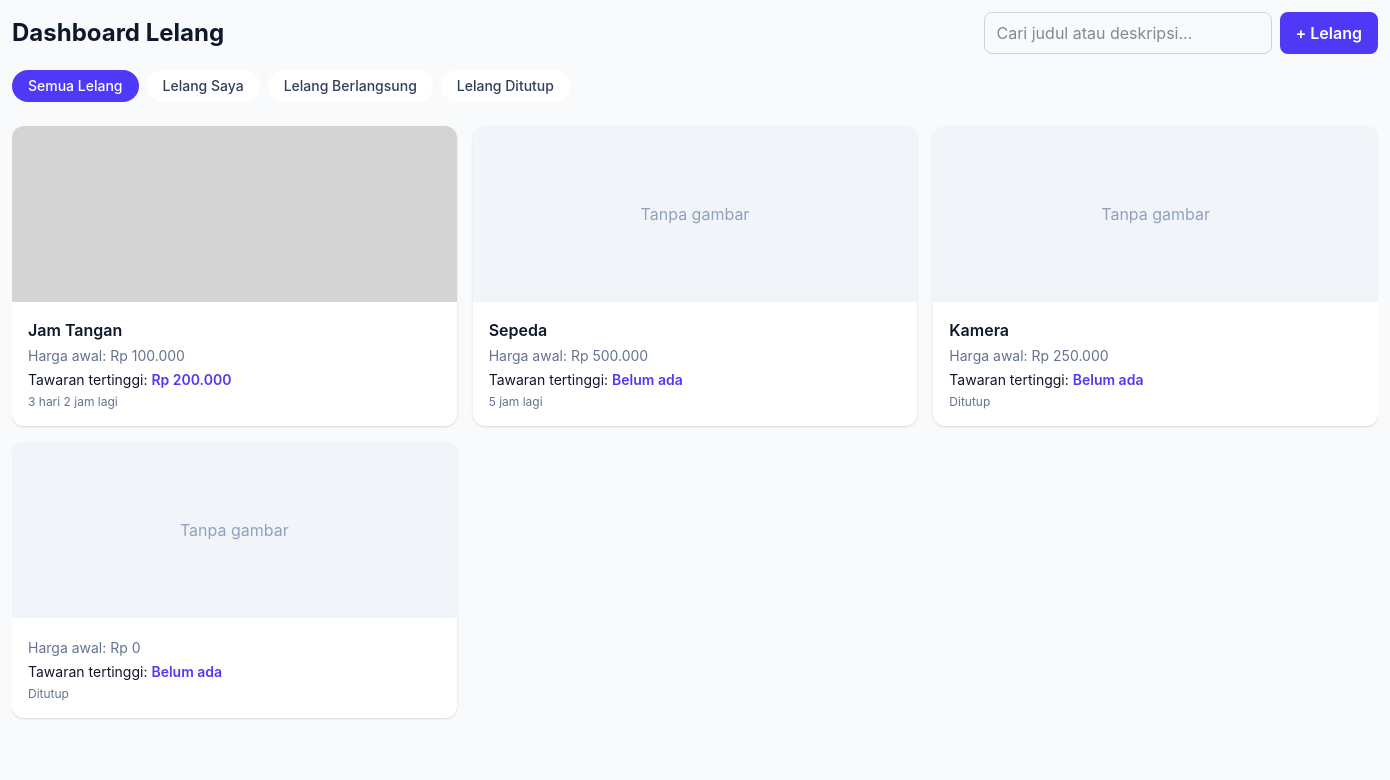
it: pencarian › menampilkan pesan jika tidak ada yang cocok
Type "zzz" into the search field with placeholder "Cari judul atau deskripsi..." at (1128, 33), box top-left (984, 12), bottom-right (1272, 54)
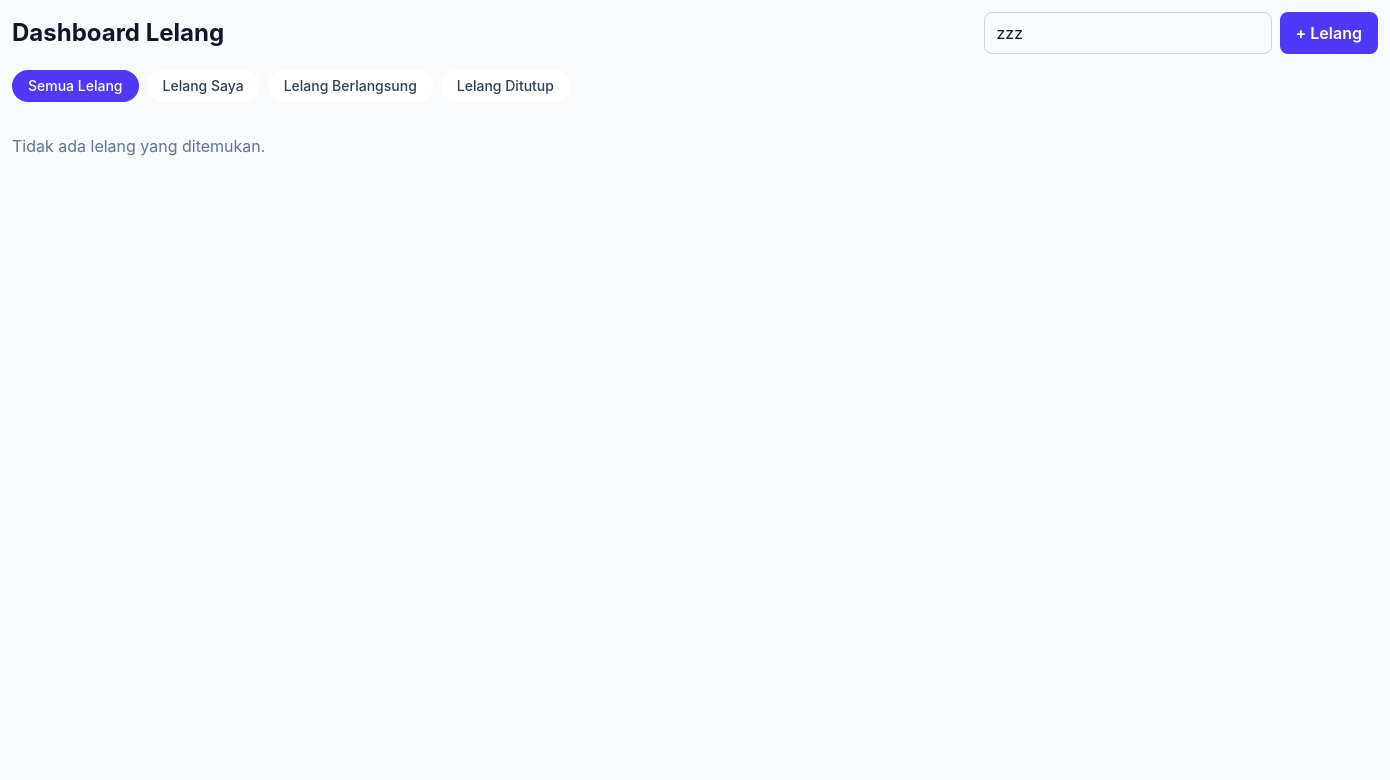
Now no list items are shown
Now the text "Tidak ada lelang yang ditemukan." is shown, box top-left (12, 136), bottom-right (265, 156)
